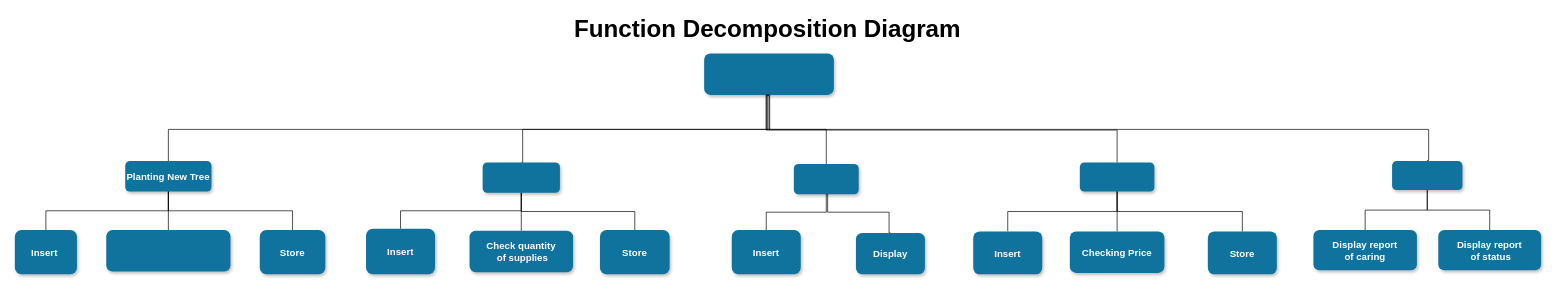
This 1557x290 diagram has some shape labels left out. Each missing label, with the centre of its shape:
Caring Tree: point 522,178
Check quantity and location: point 168,251
Look up: point 826,180
Manage Tree: point 769,74
Purchasing supplies: point 1117,177
Reporting: point 1427,176
